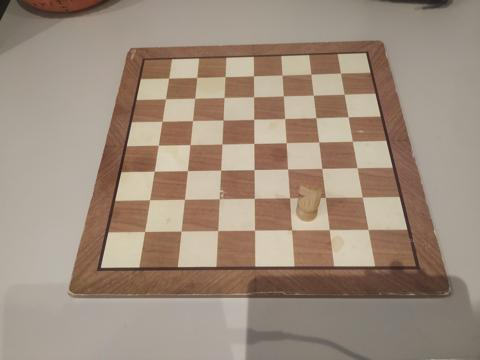xcorner: (175, 228, 185, 238), (286, 227, 296, 237), (363, 226, 373, 236), (178, 196, 188, 206), (248, 195, 258, 205), (320, 194, 330, 204), (181, 167, 191, 177), (214, 166, 224, 176), (248, 166, 258, 176), (282, 165, 292, 175), (317, 164, 327, 174), (352, 164, 362, 174), (152, 141, 162, 151), (183, 140, 193, 150), (248, 139, 258, 149), (281, 138, 291, 148), (314, 137, 324, 147), (155, 117, 165, 127), (186, 116, 196, 126), (217, 115, 227, 125), (248, 114, 258, 124), (279, 113, 289, 123), (159, 94, 169, 104), (308, 90, 318, 100), (339, 89, 349, 99), (162, 74, 172, 84), (190, 73, 200, 83), (219, 72, 229, 82), (139, 228, 148, 238), (211, 228, 221, 237), (249, 227, 258, 237), (324, 227, 334, 236), (143, 197, 153, 206), (213, 196, 223, 205), (284, 195, 294, 204), (357, 194, 367, 203), (148, 168, 158, 177), (216, 140, 225, 150), (347, 137, 357, 146), (311, 113, 321, 122), (343, 112, 353, 121), (188, 94, 198, 103), (218, 93, 228, 102), (278, 91, 288, 100), (247, 71, 257, 80), (276, 70, 286, 79), (306, 69, 316, 78), (335, 68, 345, 77), (248, 92, 257, 101)
